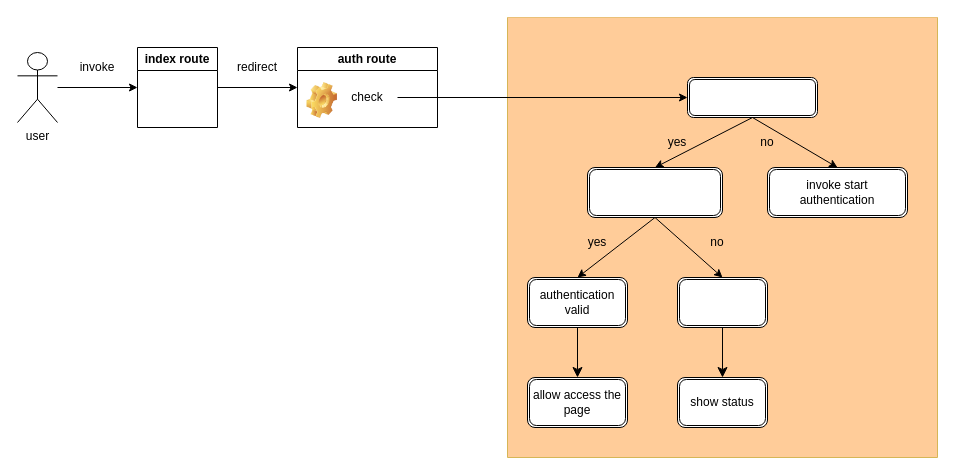
This 955x475 diagram has some shape labels left out. The centre of each missing label's shape, as x and y in pixels:
"authentication not valid" belongs at point 722,302.
"does the user have a role?" belongs at point 654,192.
"verify is user active" belongs at point 752,97.
